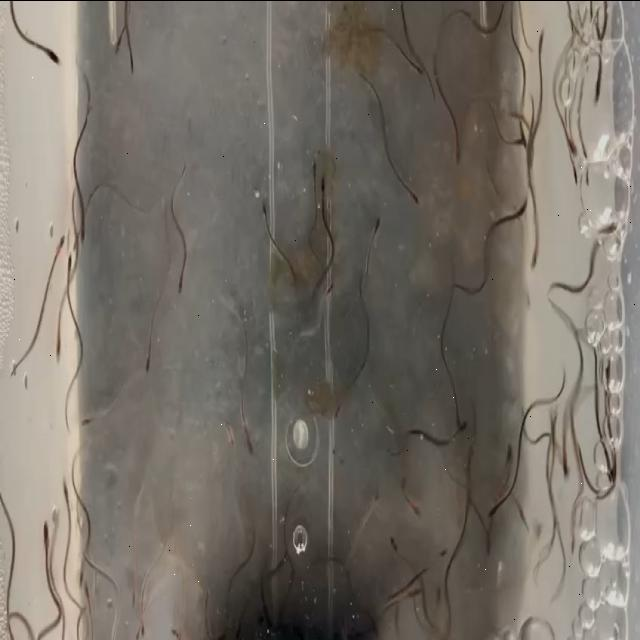active_glass_eel: (48, 42, 70, 88), (358, 478, 387, 512), (523, 247, 545, 287), (410, 44, 428, 92), (596, 456, 622, 488), (396, 493, 427, 519), (570, 163, 588, 205), (320, 272, 340, 308), (384, 524, 404, 560), (444, 137, 466, 169), (410, 170, 424, 218), (314, 170, 334, 202), (590, 78, 606, 118), (74, 220, 93, 252), (606, 206, 622, 242), (238, 434, 260, 460), (366, 208, 386, 236), (558, 450, 574, 484), (140, 339, 154, 377), (305, 154, 321, 187), (451, 406, 468, 436), (484, 498, 502, 526), (255, 194, 270, 226), (75, 564, 90, 594), (431, 583, 446, 613), (535, 28, 548, 62), (110, 29, 123, 62), (171, 276, 186, 304), (564, 532, 580, 558), (40, 517, 52, 549), (504, 436, 514, 474), (58, 471, 72, 498), (124, 588, 142, 608), (51, 334, 65, 359), (130, 624, 154, 638), (434, 539, 449, 561), (78, 409, 94, 429), (163, 625, 184, 640), (566, 137, 580, 158), (51, 235, 67, 252), (80, 587, 96, 604), (67, 255, 76, 273)
